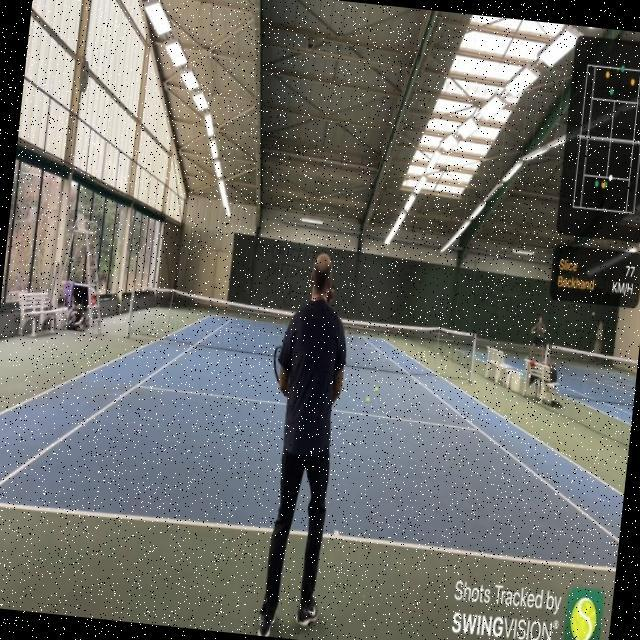court: (0, 292, 637, 574)
net: (122, 288, 480, 376)
player: (244, 248, 357, 640)
